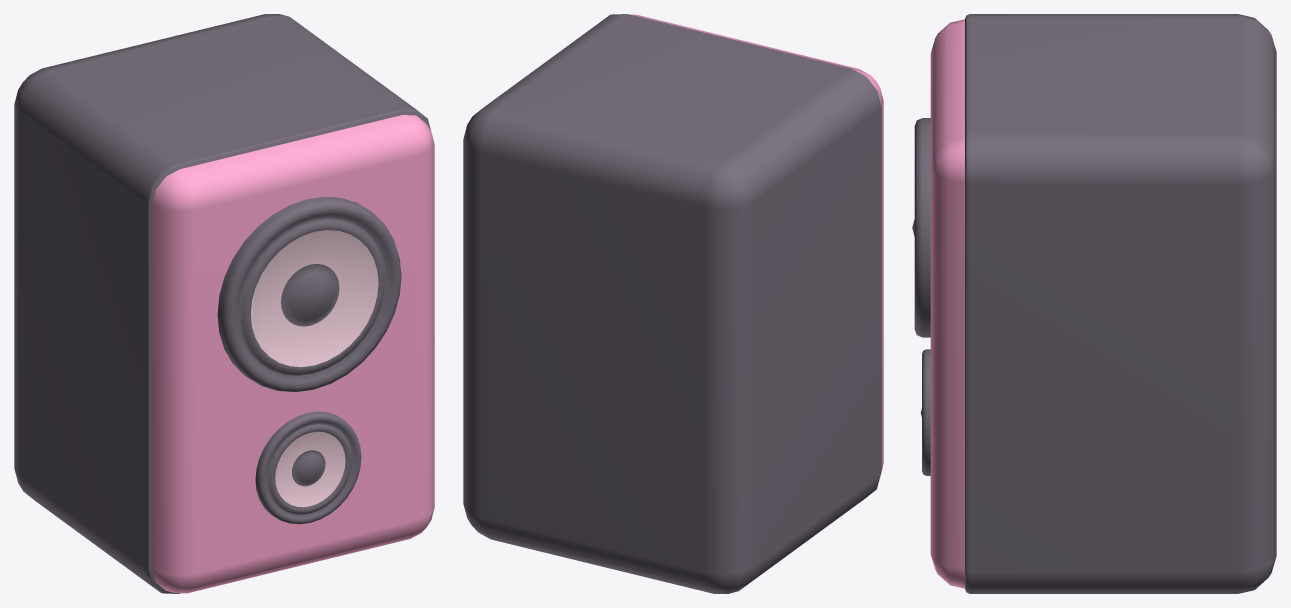
File: Speaker_02.fbx
3 views of the same model, side by side, from view 1: azimuth 30°, elevation 25°; view 2: azimuth 150°, elevation 25°; view 3: azimuth 270°, elevation 25° (orthographic). The views are drawn at different scales.
Visible parts, largest first — view 1: Speaker_02; view 2: Speaker_02; view 3: Speaker_02.
Boxes of the visible parts, x1,y1,x2,y2 form: Speaker_02: (14, 14, 434, 593); Speaker_02: (463, 14, 883, 593); Speaker_02: (912, 14, 1276, 593).
Size of the model in its own units: 47.82 by 68.72 by 49.64.
1 material, 1 textured.
